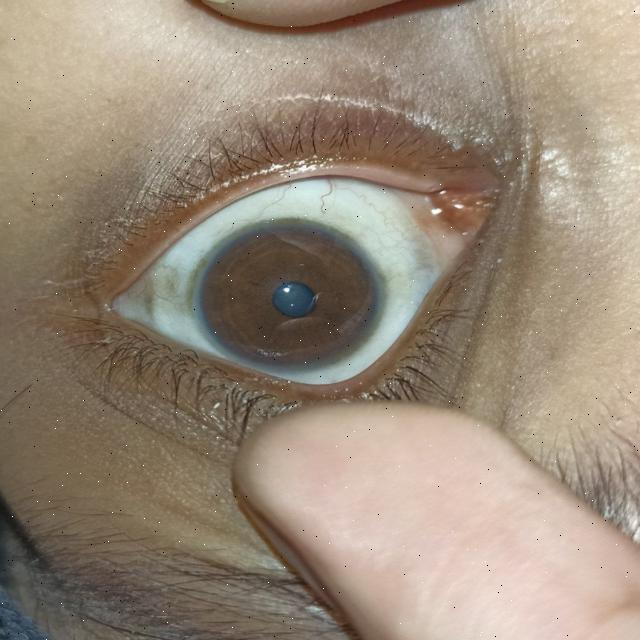Normal: (193, 219, 385, 374)
